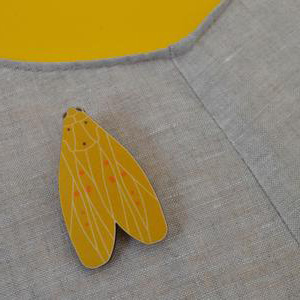Agape chloropyga: (55, 106, 174, 269)
moth: (52, 107, 171, 270)
